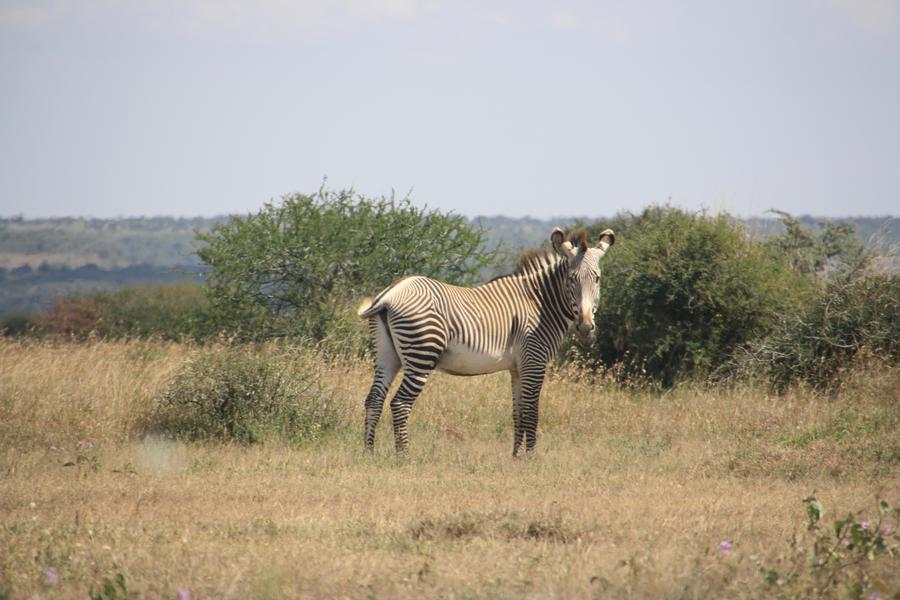zebra_grevys: (381, 274, 554, 366)
